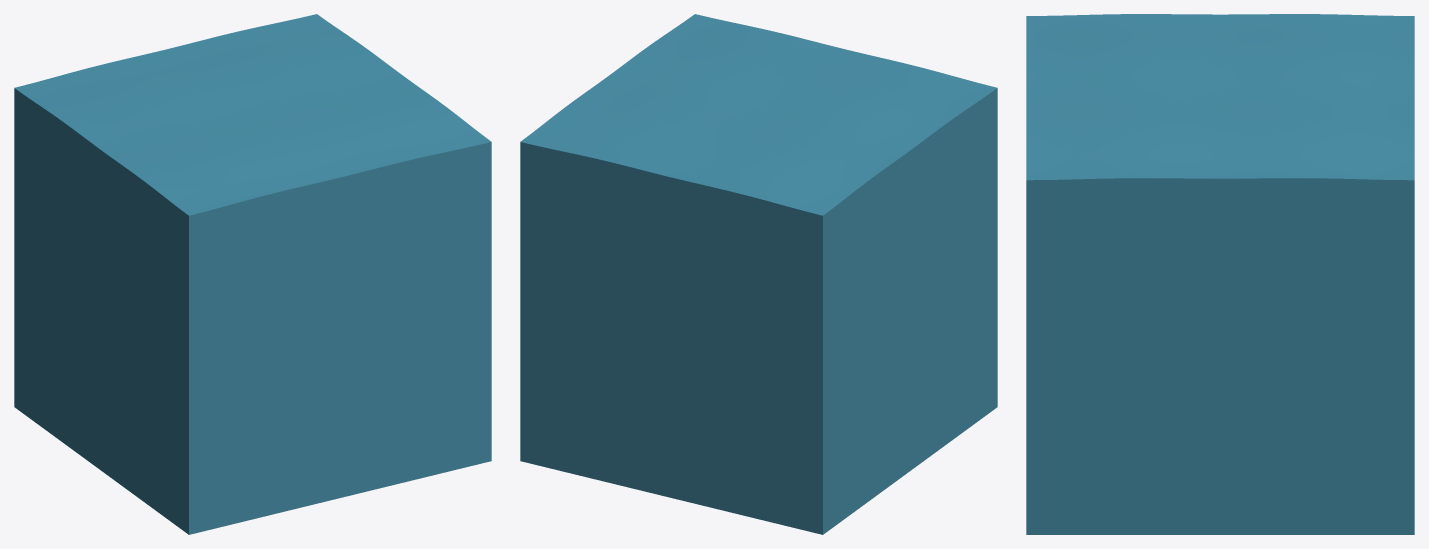
File: slpool_wave53.glb
3 renders of one model, left to right at view 1: azimuth 30°, elevation 25°; view 2: azimuth 150°, elevation 25°; view 3: azimuth 270°, elevation 25°, orthographic. The views are drawn at different scales.
Visible parts, largest first — view 1: poolWater; view 2: poolWater; view 3: poolWater.
Boxes of the visible parts, x1=… form: poolWater: x1=14, y1=14, x2=491, y2=534; poolWater: x1=520, y1=14, x2=997, y2=534; poolWater: x1=1026, y1=14, x2=1414, y2=534.
Bounding box in the file's own units: 2 × 2.04 × 2.
